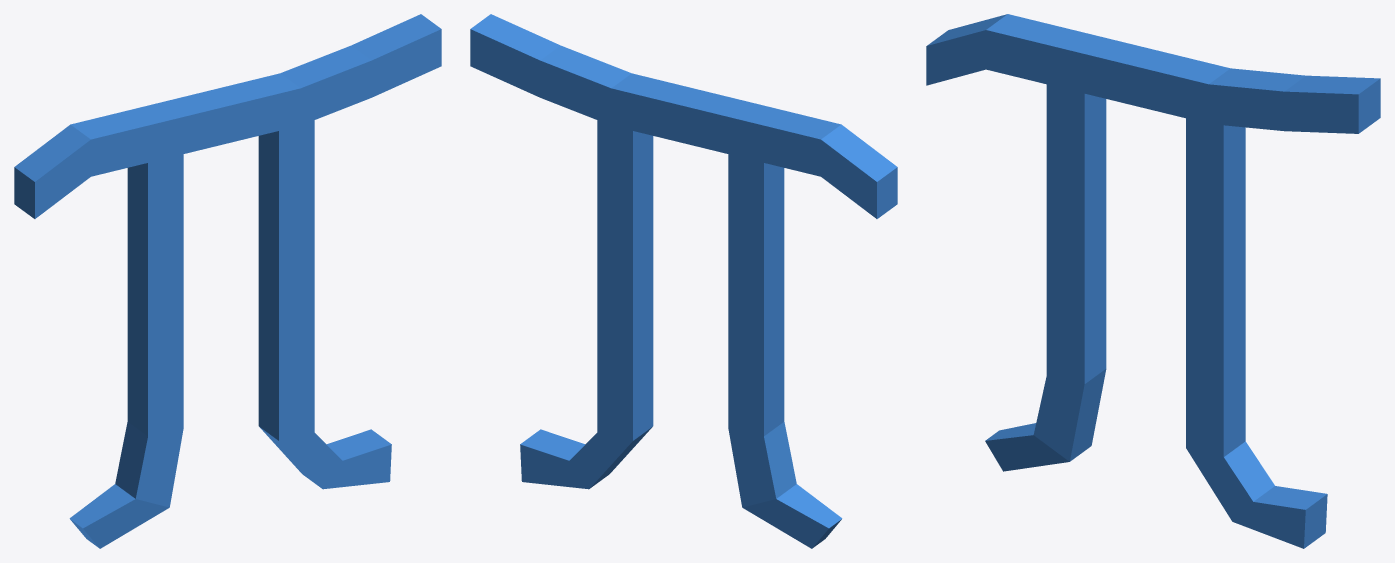
3 views of the same model, side by side, from view 1: azimuth 30°, elevation 25°; view 2: azimuth 150°, elevation 25°; view 3: azimuth 330°, elevation 25° (orthographic). The views are drawn at different scales.
Parts seen in each view (by area): view 1: Cube.004; view 2: Cube.004; view 3: Cube.004.
Boxes of the visible parts, x1,y1,x2,y2 form: Cube.004: (14, 14, 441, 548); Cube.004: (470, 14, 897, 548); Cube.004: (926, 14, 1380, 548).
Bounding box in the file's own units: 15.37 × 15.9 × 1.35.
